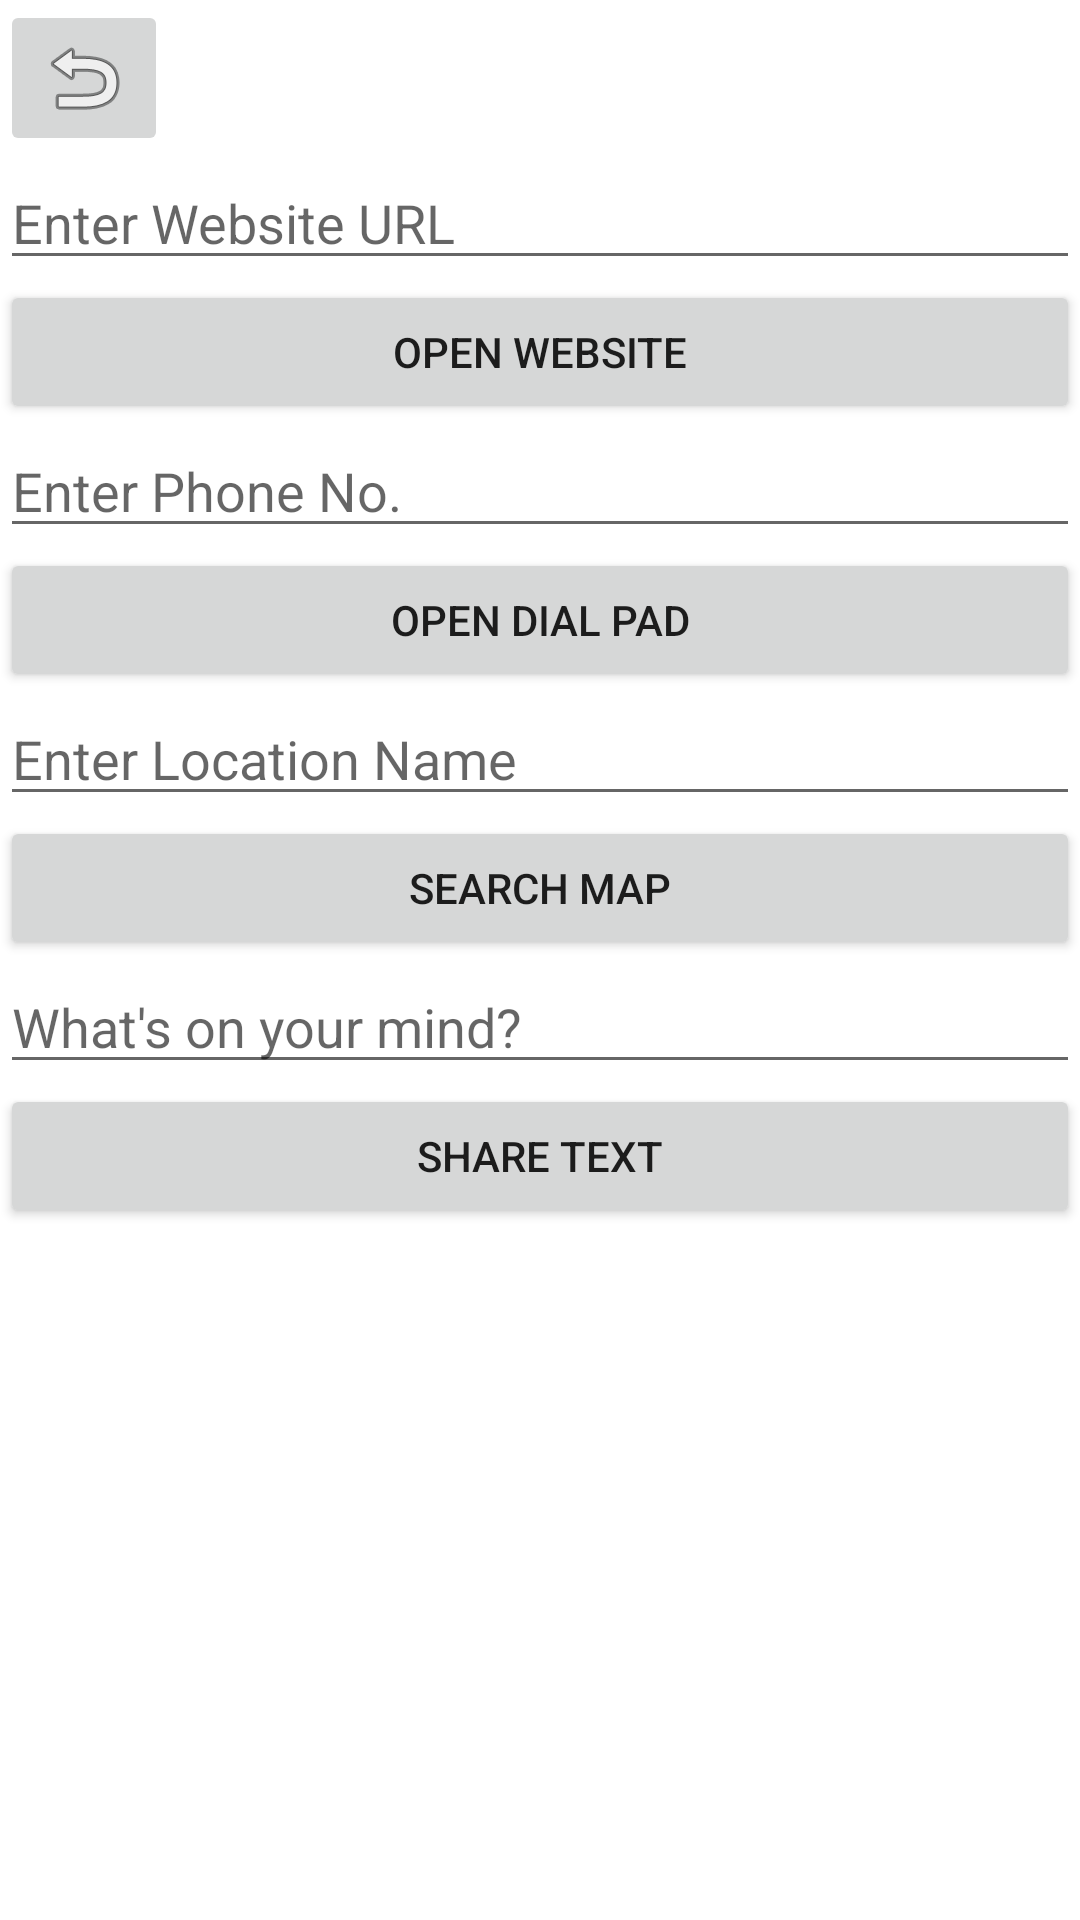

Icon bounding boxes for this 1080w x 1920h phone screenshot, format [x1=x1, y1=y1, x2=x2, y2=y2]:
revert: [x1=12, y1=18, x2=156, y2=138]
